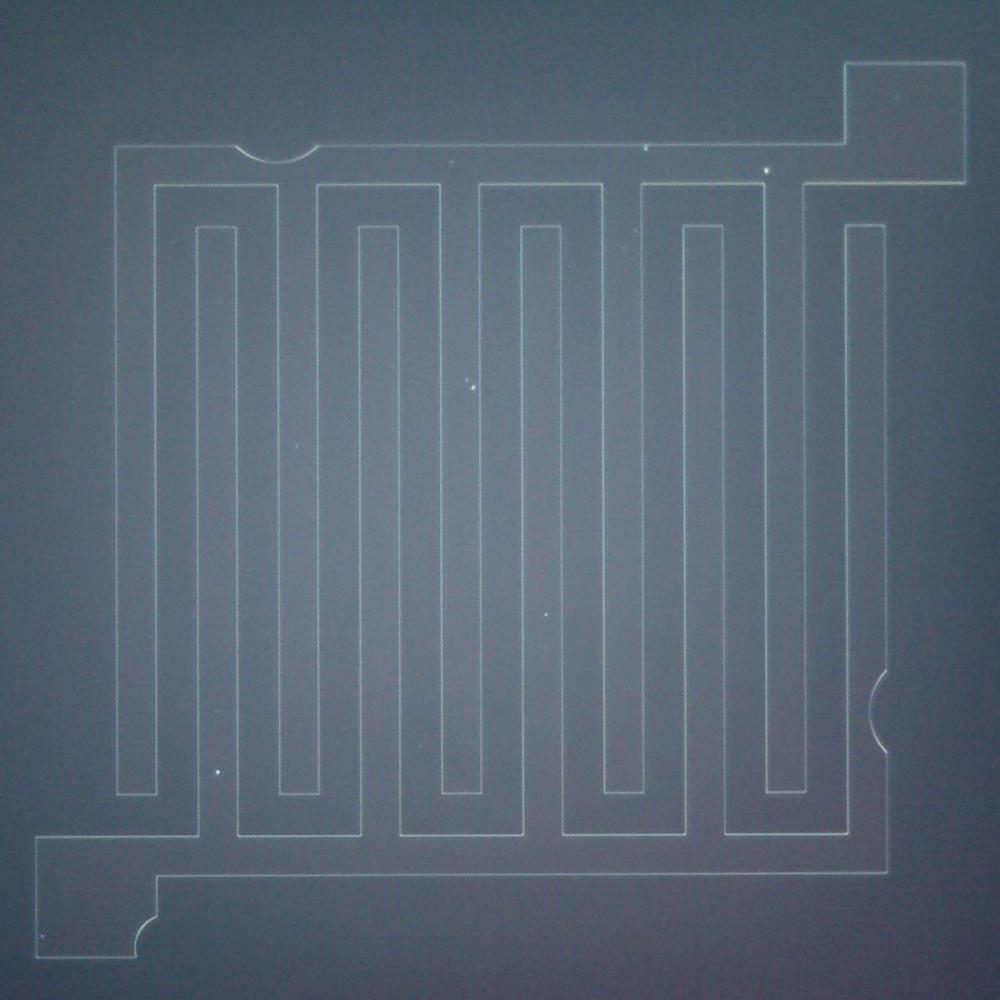curve circuit: (217, 127, 342, 176), (860, 653, 908, 767), (116, 902, 170, 968)
dot: (206, 757, 232, 787), (750, 157, 782, 180)
